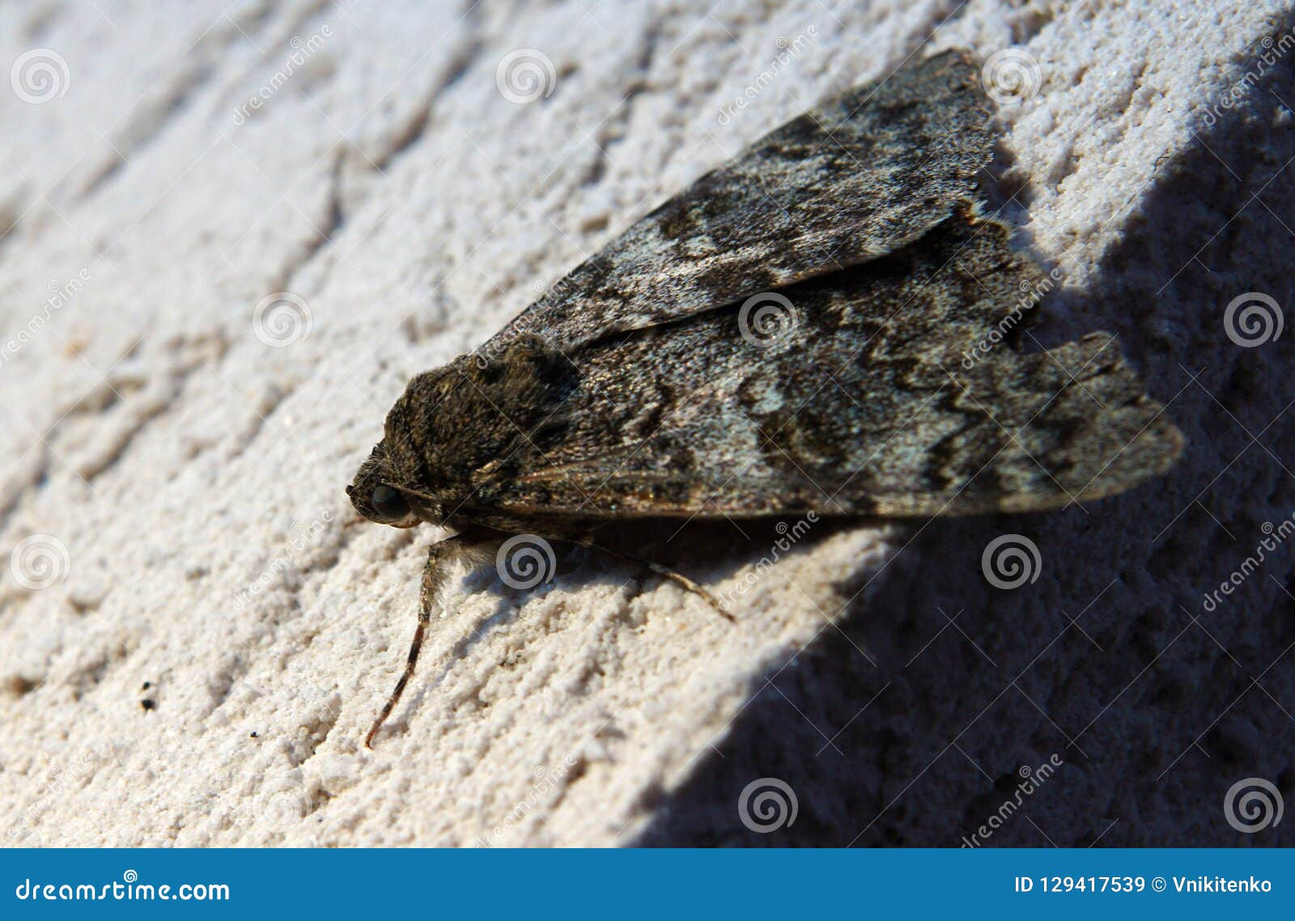Noctuidae: (346, 43, 1156, 743)
